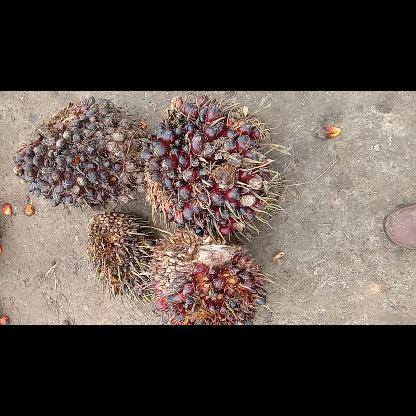Kurang masak: (142, 96, 278, 240), (13, 97, 138, 210)
TBS abnormal: (86, 210, 156, 298)
TBS masak: (148, 234, 266, 324)
